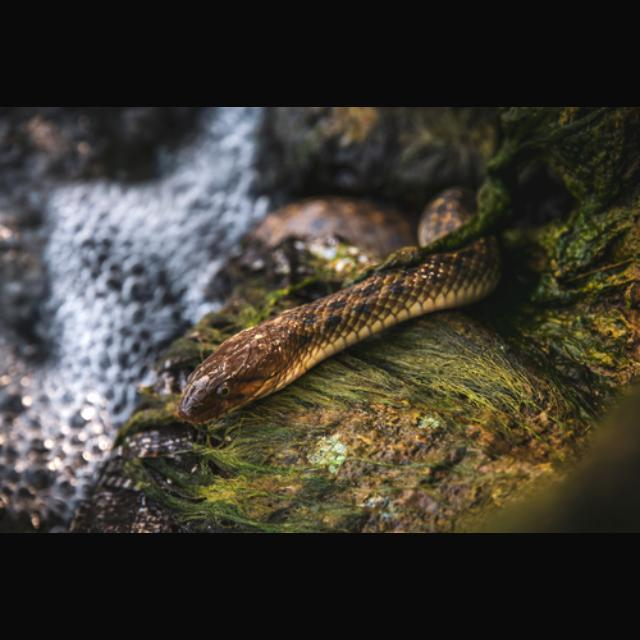snake: (172, 174, 516, 436)
